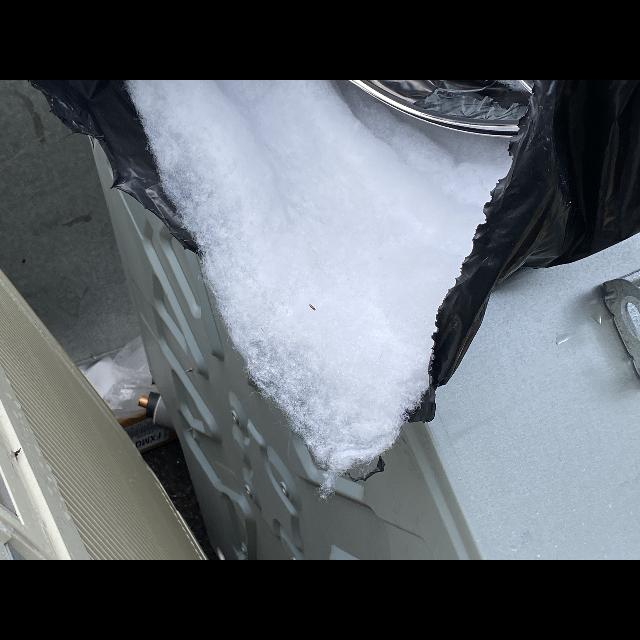Copper: (138, 396, 148, 407)
Galvanized Steel: (428, 233, 640, 560), (0, 80, 139, 365)
